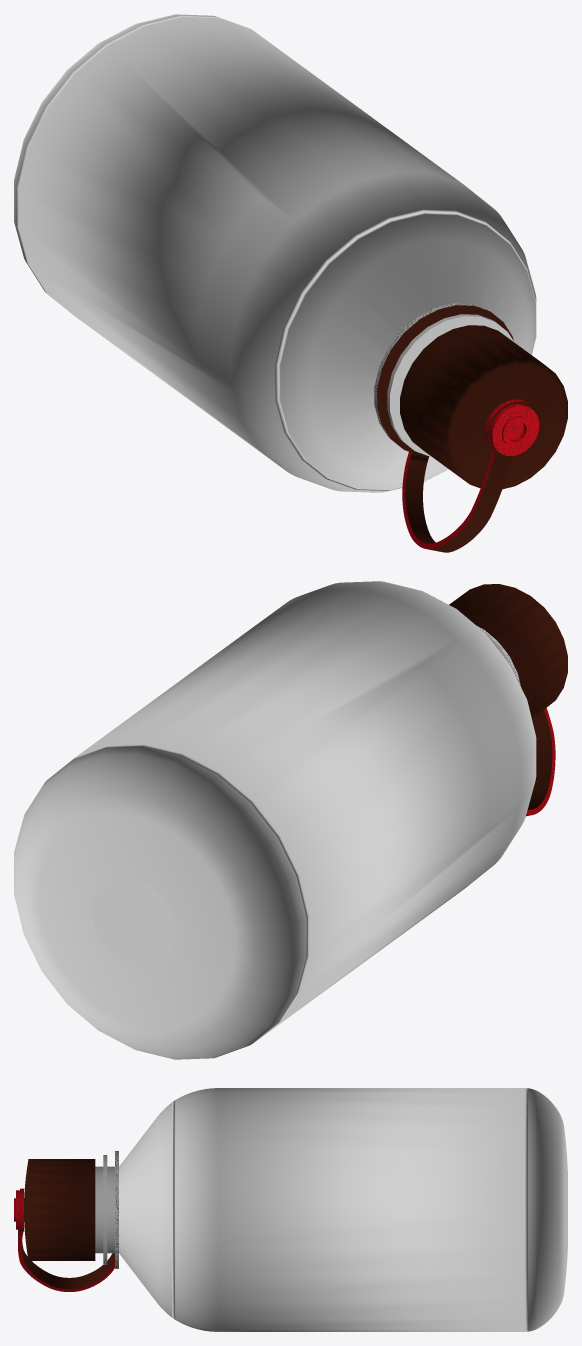
File: model_align.obj
The picture shows the model from 3 angles, top to bottom: view 1: azimuth 30°, elevation 25°; view 2: azimuth 150°, elevation 25°; view 3: azimuth 270°, elevation 25°; orthographic projection. The views are drawn at different scales.
Visible parts, largest first — view 1: mesh1_mesh1-geometry; view 2: mesh1_mesh1-geometry; view 3: mesh1_mesh1-geometry.
Boxes of the visible parts, bbox=[...] form: mesh1_mesh1-geometry: bbox=[14, 14, 567, 552]; mesh1_mesh1-geometry: bbox=[14, 581, 567, 1059]; mesh1_mesh1-geometry: bbox=[14, 1088, 567, 1331].
Size of the model in its own units: 0.0771 by 0.0771 by 0.1766.
